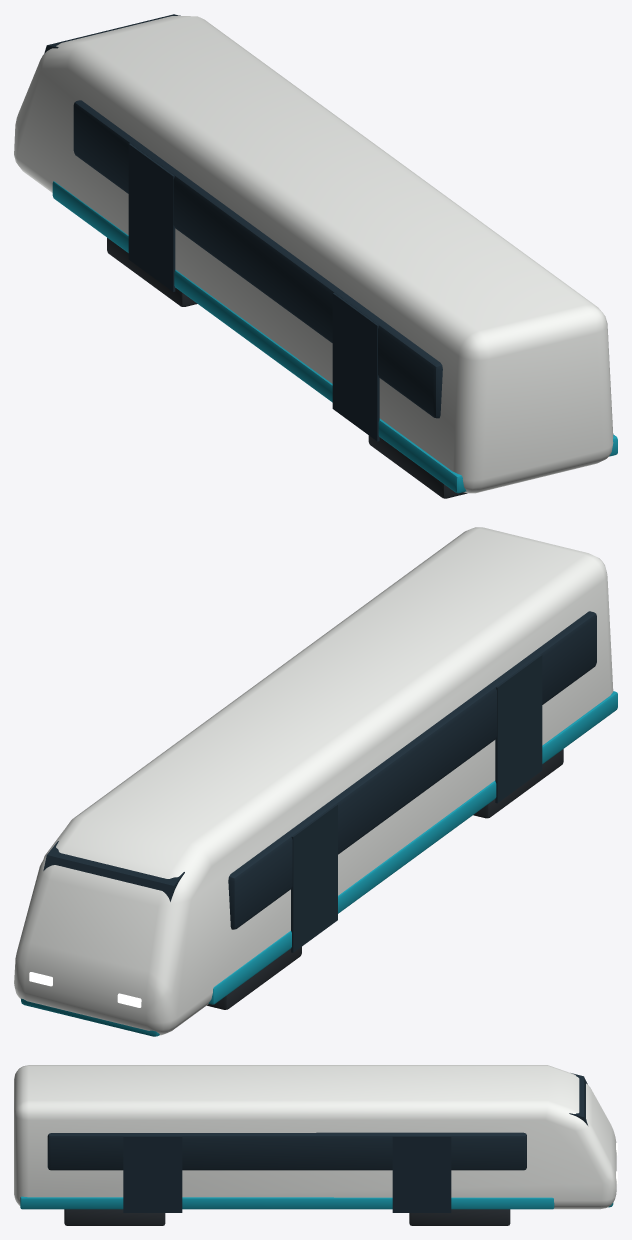
Rendered from sky_car_end.glb.
3 renders of one model, top to bottom at view 1: azimuth 30°, elevation 25°; view 2: azimuth 150°, elevation 25°; view 3: azimuth 270°, elevation 25°, orthographic. The views are drawn at different scales.
Visible parts, largest first — view 1: prism; view 2: prism; view 3: prism.
Part boxes in pixels (x1,y1,x2,y2): prism: (14,14,617,498); prism: (14,527,617,1036); prism: (14,1065,617,1225).
Size of the model in its own units: 2.98 by 3.25 by 14.36.
